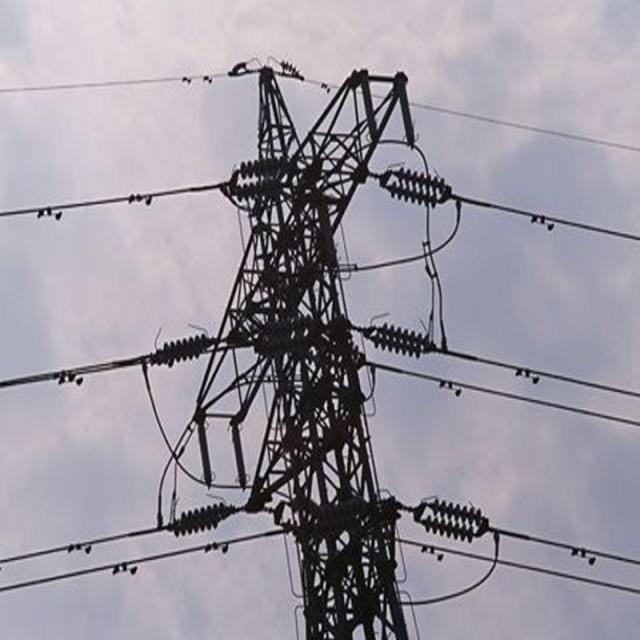non-critical vegetation: (143, 31, 526, 632)
